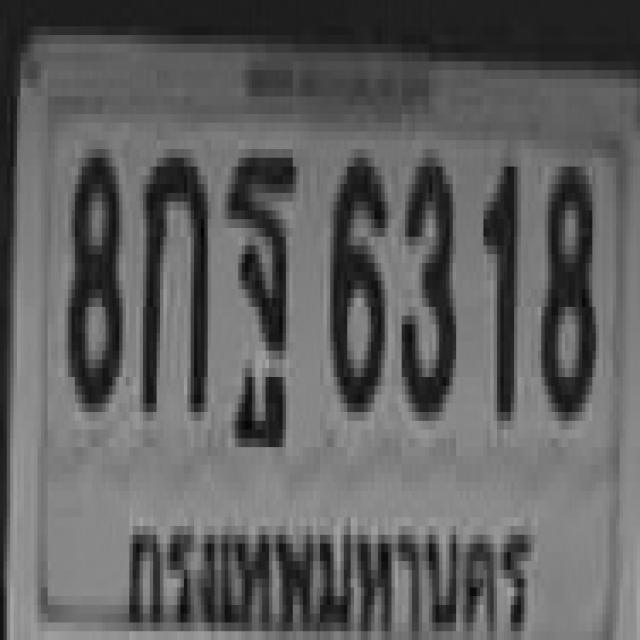1: (480, 154, 514, 408)
10GorGai: (140, 144, 204, 408)
25ThorThan: (225, 144, 292, 408)
3: (398, 149, 453, 412)
6: (326, 149, 384, 403)
8: (65, 136, 119, 399), (538, 158, 592, 412)
Bangkok: (118, 490, 534, 640)
